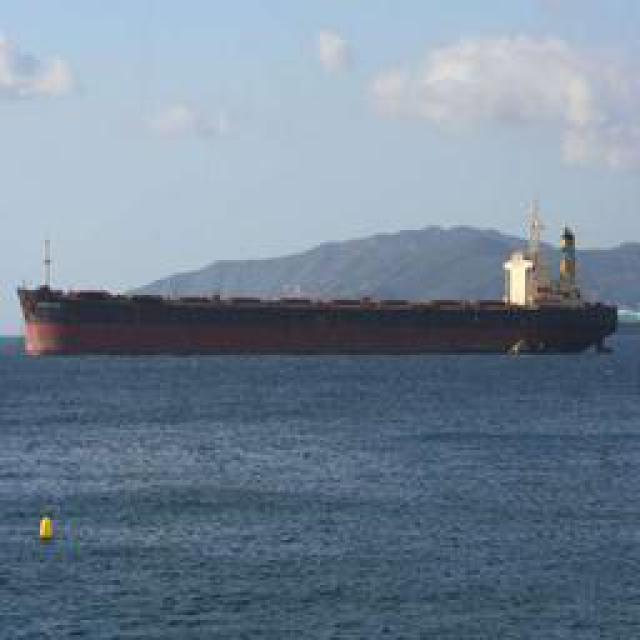Ship: (25, 267, 620, 357)
